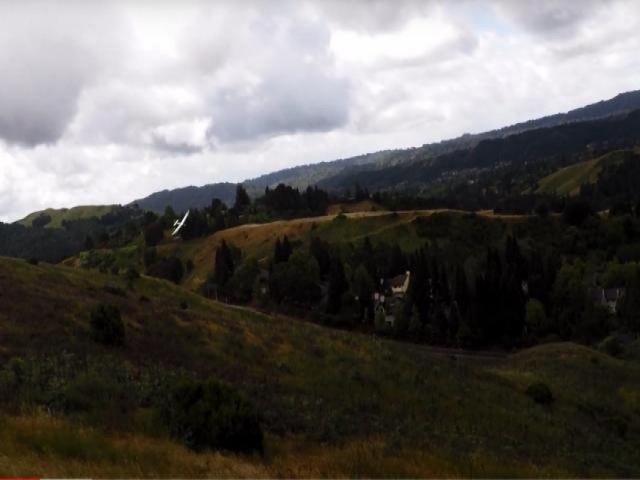iha: (170, 207, 194, 235)
